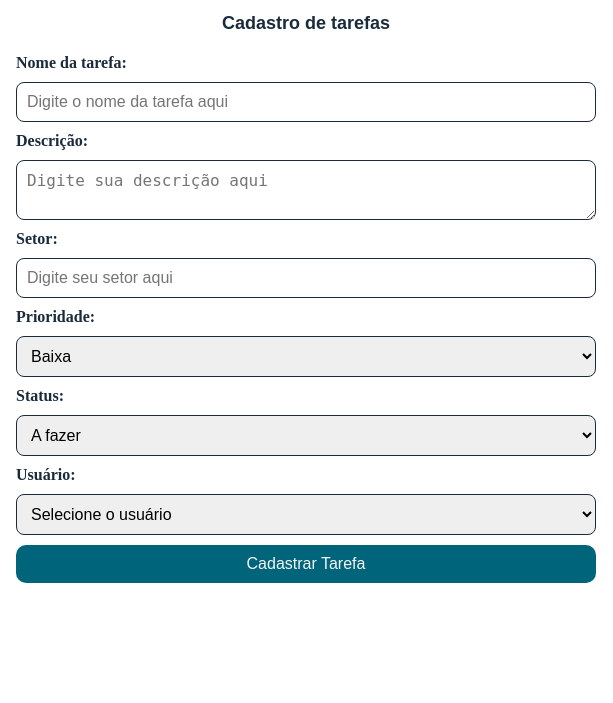
Test: Cadastro de tarefa › deve remover a mensagem de erro ao corrigir o campo
The width and height of the screenshot is (613, 703).
Click the button "Cadastrar Tarefa" at point(306, 564), box [16,545,596,583]
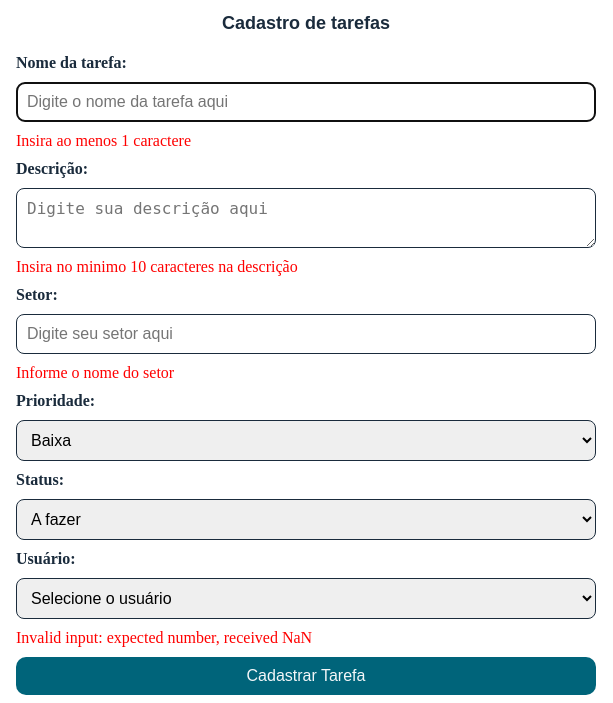
Result: the text "Insira ao menos 1 caractere" is shown at [16,132,191,149]
Type "Novo nome" into the field labelled "Nome da tarefa:" at point(306, 102), box [16,82,596,122]
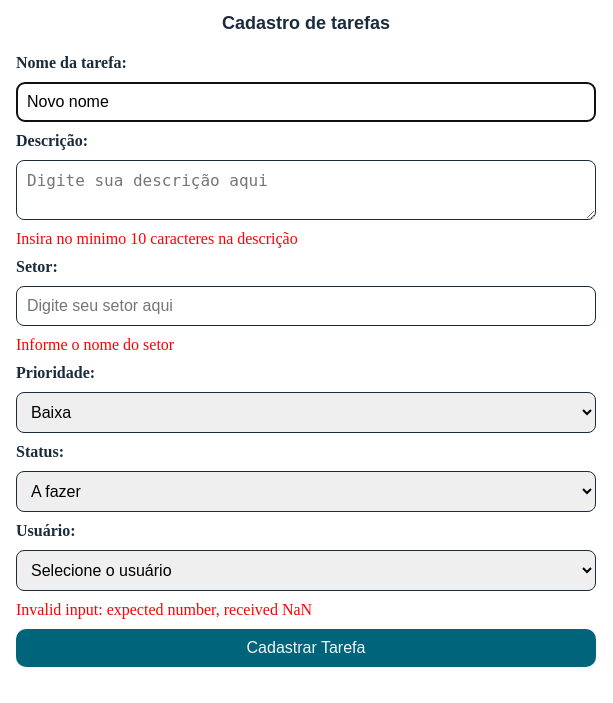
Result: the text "Insira ao menos 1 caractere" is gone
